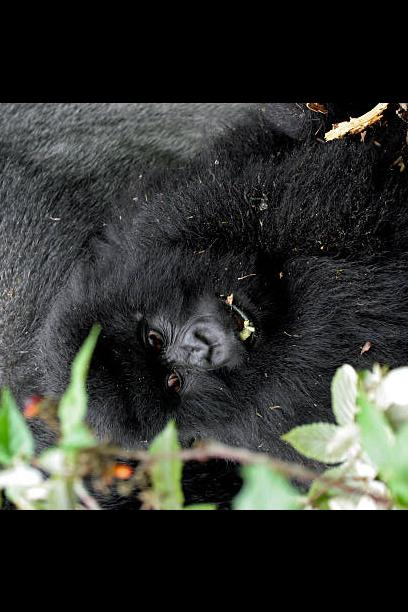goriile_montagne: (27, 114, 408, 487)
